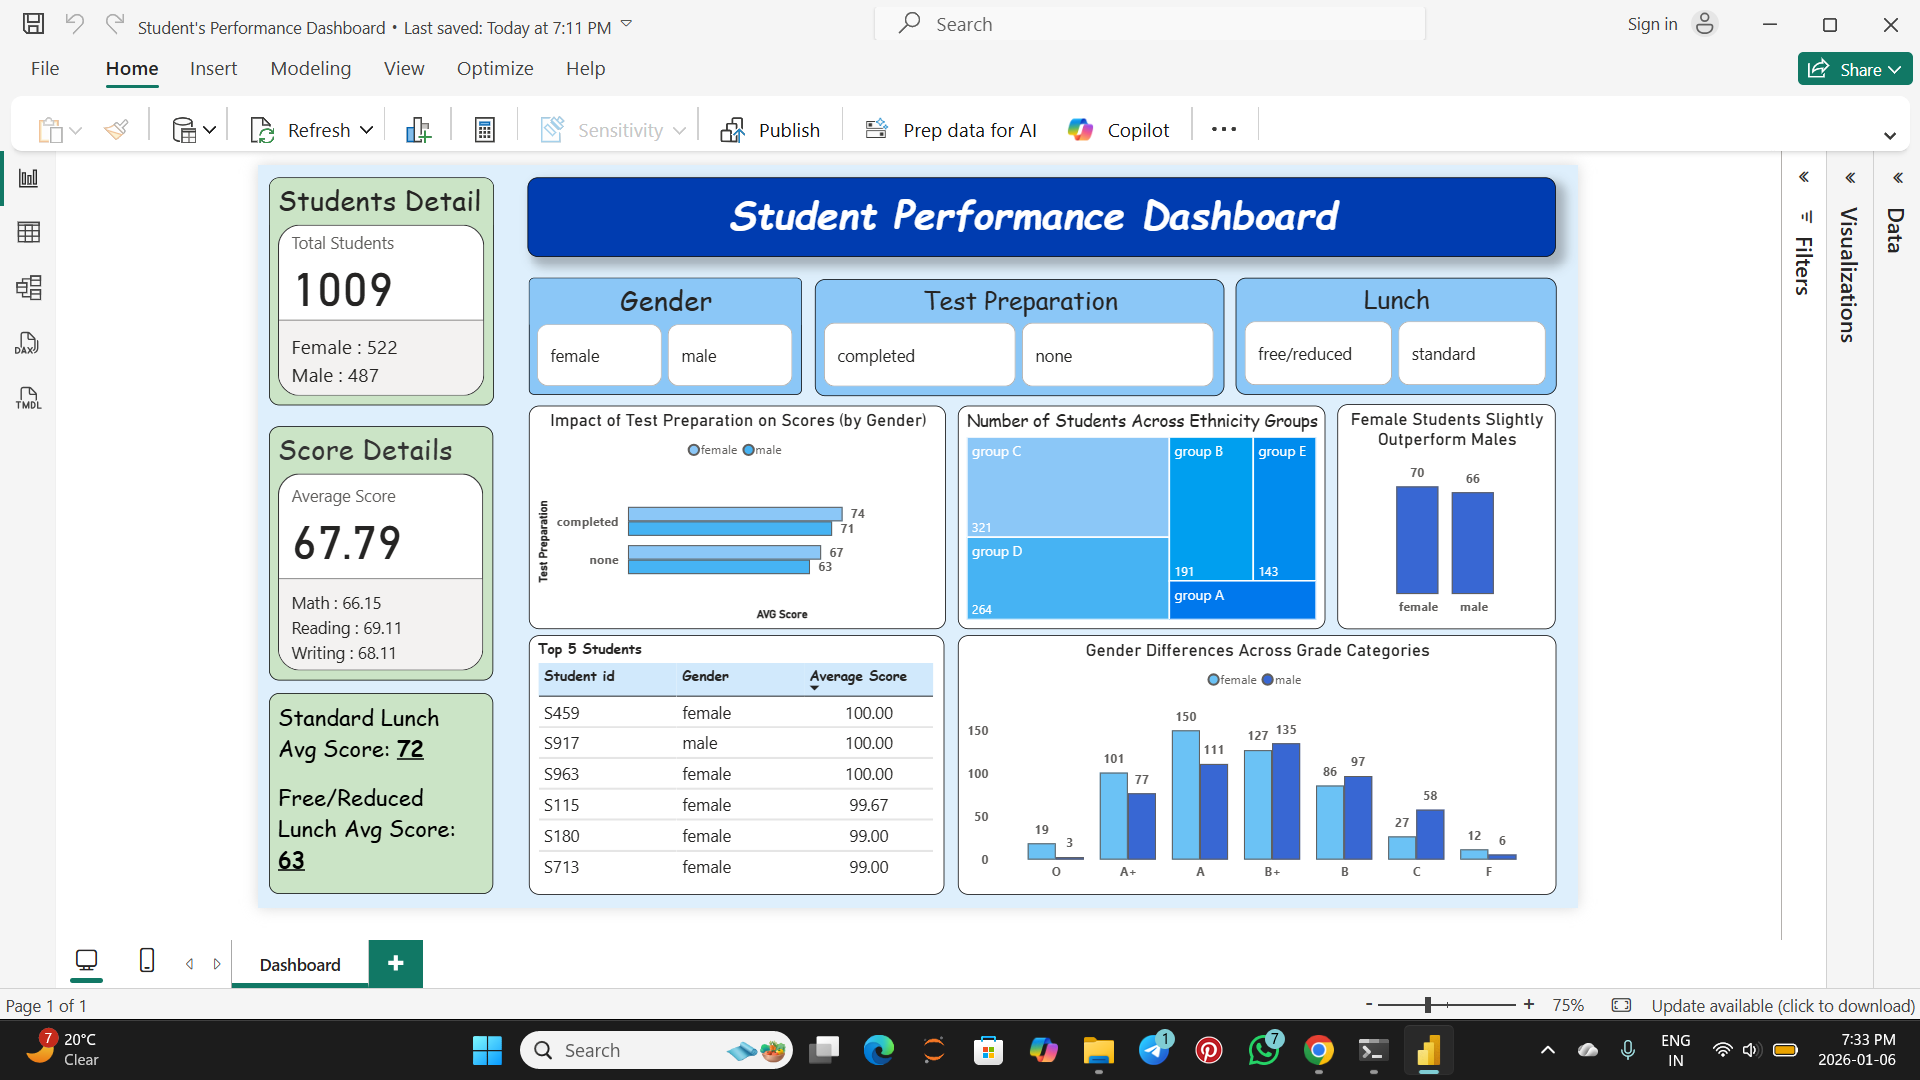

The dashboard page shown, as its layout file describes it:
{"tool":"powerbi","page":{"name":"Dashboard","canvas":[1280,720],"ordinal":0},"visuals":[{"type":"cardVisual","title":"Students Detail","fields":{"Data":["Measures_.No. of Students"]},"box":[10.6,12.1,218.2,221.2],"z":0},{"type":"cardVisual","title":"Score Details","fields":{"Data":["Measures_.Average Score"]},"box":[10.8,249.2,218.5,247.7],"z":1000},{"type":"clusteredColumnChart","title":"Female Students Slightly Outperform Males","fields":{"Category":["StudentsPerformance.Gender"],"Y":["Measures_.Average Score"]},"box":[1009.1,231.8,250,218.2],"z":2000},{"type":"clusteredBarChart","title":"Impact of Test Preparation on Scores (by Gender)","fields":{"Category":["StudentsPerformance.Test Preparation Course"],"Y":["Measures_.Average Score"],"Series":["StudentsPerformance.Gender"]},"box":[262.1,233.3,404.5,216.7],"z":3000},{"type":"clusteredColumnChart","title":"Reading Has the Highest Average Score","fields":{"Category":["Subjects.Subject"],"Y":["Measures_.Selected Subject Average"]},"box":[262.1,456.1,404.5,251.5],"z":4000},{"type":"pieChart","title":"Standard Lunch Students Score Higher on Average","fields":{"Category":["StudentsPerformance.Lunch"],"Y":["Measures_.Average Score"]},"box":[678.8,231.8,319.7,218.2],"z":5000},{"type":"clusteredColumnChart","title":"Gender Differences Across Grade Categories","fields":{"Category":["StudentsPerformance.Grade"],"Y":["Measures_.No. of Students"],"Series":["StudentsPerformance.Gender"]},"box":[678.8,456.1,580.3,251.5],"z":6000},{"type":"textbox","box":[261.5,12.3,996.9,76.9],"z":7000},{"type":"advancedSlicerVisual","fields":{"Values":["StudentsPerformance.Gender"]},"box":[261.5,109.2,233.8,113.8],"z":8000},{"type":"advancedSlicerVisual","title":"Test Preparation ","fields":{"Values":["StudentsPerformance.Test Preparation Course"]},"box":[523.1,109.2,284.6,113.8],"z":8001},{"type":"advancedSlicerVisual","title":"Lunch","fields":{"Values":["StudentsPerformance.Lunch"]},"box":[10.8,512.3,218.5,193.8],"z":8002},{"type":"advancedSlicerVisual","title":"Grade","fields":{"Values":["StudentsPerformance.Grade"]},"box":[827.7,109.2,430.8,113.8],"z":8003}]}

Visuals, with their boxes on the page's 1280x720 design canvas (x1, y1, x2, y2). These are canvas units, not pixel positions in the 1920x1080 screenshot, which may show the page scaled, cropped or inside an application window:
"Students Detail" cardVisual: (x1=11, y1=12, x2=229, y2=233)
"Score Details" cardVisual: (x1=11, y1=249, x2=229, y2=497)
"Female Students Slightly Outperform Males" clusteredColumnChart: (x1=1009, y1=232, x2=1259, y2=450)
"Impact of Test Preparation on Scores (by Gender)" clusteredBarChart: (x1=262, y1=233, x2=667, y2=450)
"Reading Has the Highest Average Score" clusteredColumnChart: (x1=262, y1=456, x2=667, y2=708)
"Standard Lunch Students Score Higher on Average" pieChart: (x1=679, y1=232, x2=998, y2=450)
"Gender Differences Across Grade Categories" clusteredColumnChart: (x1=679, y1=456, x2=1259, y2=708)
textbox: (x1=262, y1=12, x2=1258, y2=89)
advancedSlicerVisual - StudentsPerformance.Gender: (x1=262, y1=109, x2=495, y2=223)
"Test Preparation " advancedSlicerVisual: (x1=523, y1=109, x2=808, y2=223)
"Lunch" advancedSlicerVisual: (x1=11, y1=512, x2=229, y2=706)
"Grade" advancedSlicerVisual: (x1=828, y1=109, x2=1258, y2=223)
